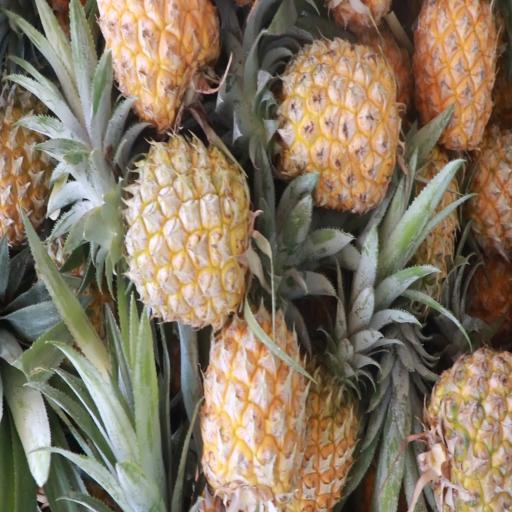------------------------------: (416, 346, 512, 512)
Pineapple - v8 v1: (112, 131, 250, 334), (257, 37, 402, 210), (200, 295, 310, 512), (289, 272, 365, 512), (412, 1, 498, 149)
